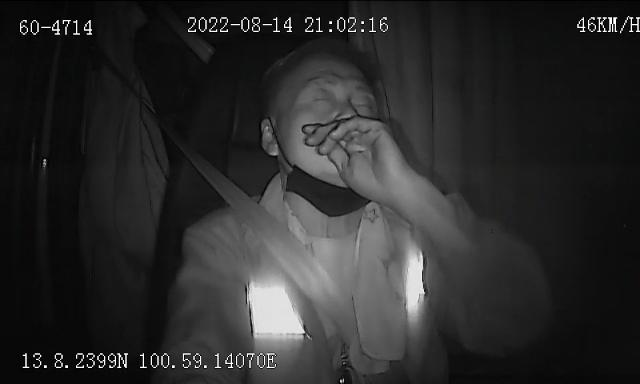Seatbelt: (148, 109, 362, 346)
